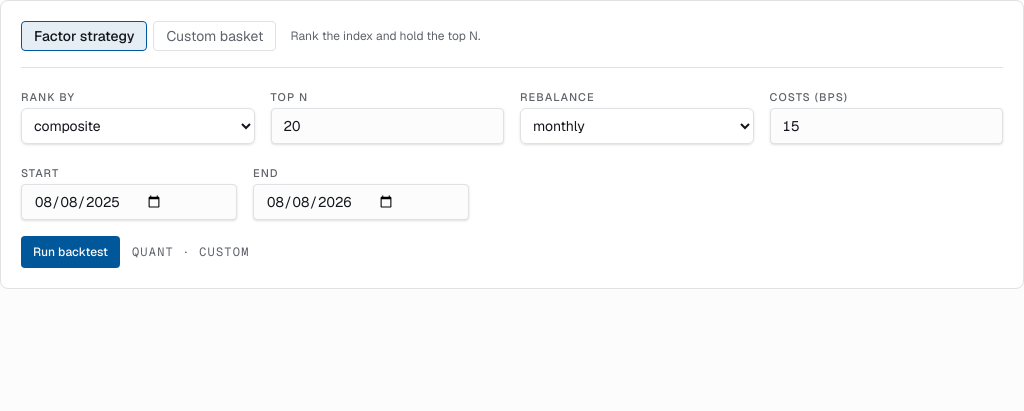
Test: BacktestSetupForm custom basket › swaps ranking controls for a symbol picker in basket mode
Click the radio button labelled "Custom basket" at (215, 36), box [153,21,276,51]
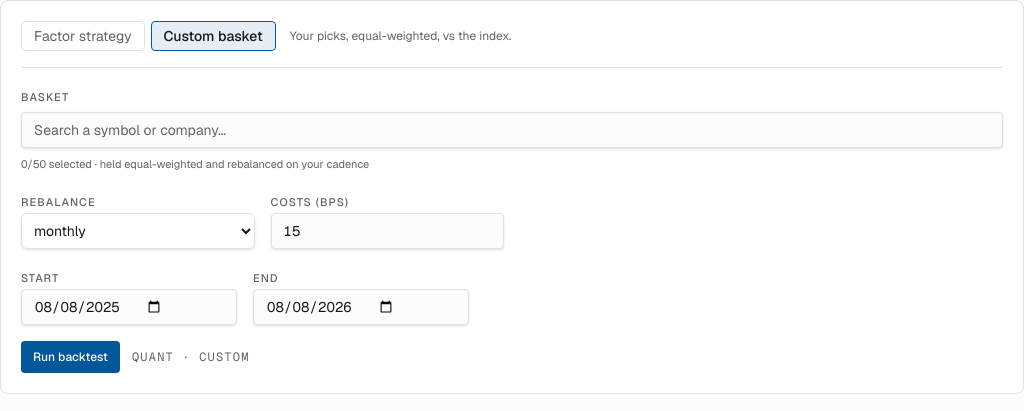
Now the text "Rank by" is gone
Now the text "top N" is gone
Now the search field named "search symbols" is shown, box [21,112,1003,148]
